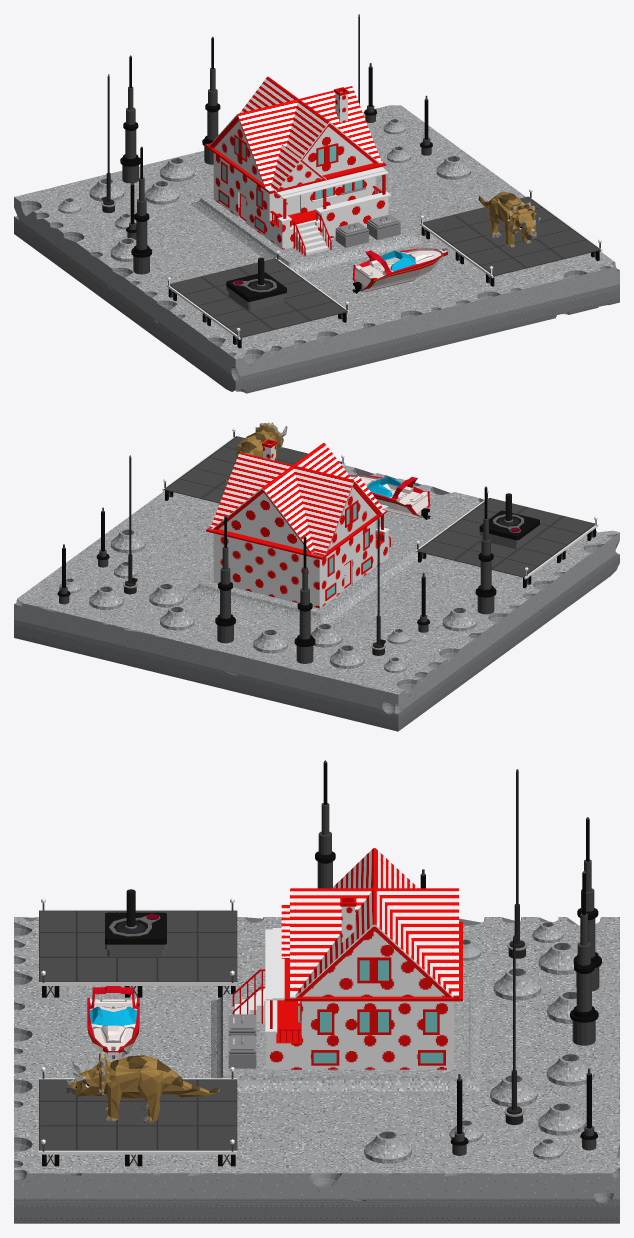
3 views of the same model, one above another, from view 1: azimuth 30°, elevation 25°; view 2: azimuth 150°, elevation 25°; view 3: azimuth 270°, elevation 25° (orthographic). The views are drawn at different scales.
Visible parts, largest first — view 1: Cube.027, Cube.196, Cube.026, Cube.025, Cube.028, VEHICLES_BOAT, ANIMAL_Triceratops, OBJRANDOM_JOYSTICK, Cylinder.021, Cylinder.020, Cylinder.017, Cube.029 (+6 smaller); view 2: Cube.027, Cube.196, Cube.025, Cube.028, Cube.026, VEHICLES_BOAT, OBJRANDOM_JOYSTICK, Cylinder.021, Cylinder.020, Cylinder.017, ANIMAL_Triceratops, Cylinder.029 (+9 smaller); view 3: Cube.027, Cube.196, Cube.025, Cube.026, Cube.028, ANIMAL_Triceratops, VEHICLES_BOAT, OBJRANDOM_JOYSTICK, Cylinder.017, Cylinder.021, Cylinder.020, Cylinder.033 (+12 smaller).
Boxes of the visible parts, x1=… form: Cube.027: x1=14, y1=105, x2=619, y2=393; Cube.196: x1=205, y1=76, x2=391, y2=256; Cube.026: x1=419, y1=189, x2=602, y2=286; Cube.025: x1=166, y1=250, x2=349, y2=348; Cube.028: x1=191, y1=194, x2=423, y2=273; VEHICLES_BOAT: x1=352, y1=248, x2=447, y2=293; ANIMAL_Triceratops: x1=478, y1=191, x2=540, y2=247; OBJRANDOM_JOYSTICK: x1=226, y1=257, x2=286, y2=310; Cylinder.021: x1=131, y1=146, x2=151, y2=274; Cylinder.020: x1=120, y1=55, x2=140, y2=183; Cylinder.017: x1=202, y1=36, x2=220, y2=164; Cube.029: x1=335, y1=222, x2=368, y2=247; Cube.027: x1=14, y1=465, x2=619, y2=731; Cube.196: x1=206, y1=439, x2=390, y2=608; Cube.025: x1=415, y1=490, x2=598, y2=588; Cube.028: x1=189, y1=543, x2=417, y2=624; Cube.026: x1=162, y1=428, x2=345, y2=503; VEHICLES_BOAT: x1=349, y1=475, x2=430, y2=519; OBJRANDOM_JOYSTICK: x1=479, y1=493, x2=539, y2=549; Cylinder.021: x1=475, y1=486, x2=496, y2=614; Cylinder.020: x1=294, y1=536, x2=315, y2=663; Cylinder.017: x1=215, y1=515, x2=235, y2=643; ANIMAL_Triceratops: x1=225, y1=422, x2=287, y2=482; Cylinder.029: x1=160, y1=606, x2=194, y2=630; Cube.027: x1=14, y1=917, x2=619, y2=1223; Cube.196: x1=232, y1=848, x2=462, y2=1069; Cube.025: x1=39, y1=898, x2=237, y2=997; Cube.026: x1=39, y1=1067, x2=237, y2=1166; Cube.028: x1=211, y1=994, x2=480, y2=1091; ANIMAL_Triceratops: x1=65, y1=1051, x2=219, y2=1122; VEHICLES_BOAT: x1=87, y1=986, x2=139, y2=1059; OBJRANDOM_JOYSTICK: x1=105, y1=889, x2=166, y2=956; Cylinder.017: x1=570, y1=870, x2=598, y2=1045; Cylinder.021: x1=315, y1=760, x2=335, y2=888; Cylinder.020: x1=573, y1=817, x2=601, y2=991; Cylinder.033: x1=364, y1=1130, x2=411, y2=1163.
Bounding box in the file's own units: 4000 × 1822 × 4000.
35 materials, 6 textured.
